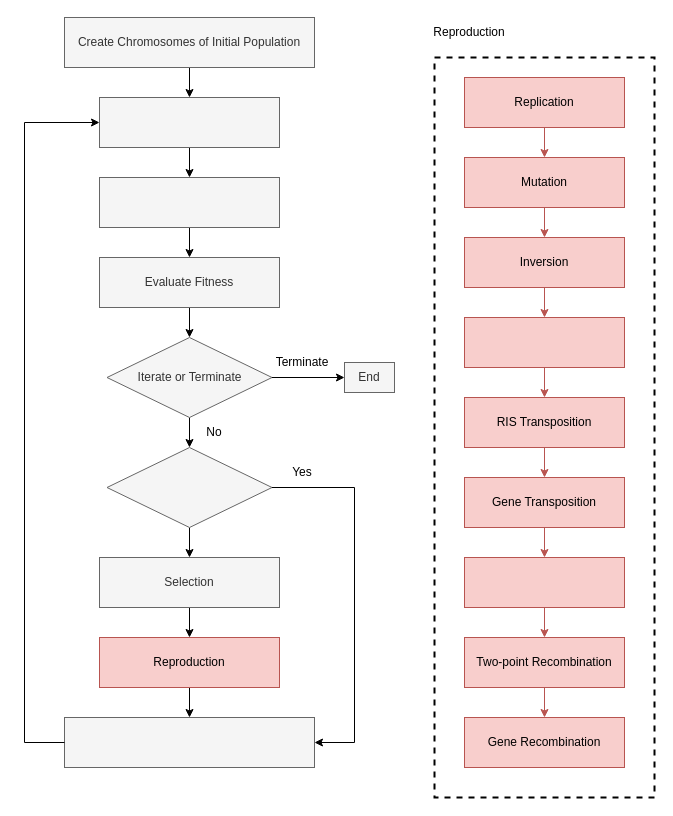
Some shapes in this 673 by 816 pixel diagram are drawn without their labels. Each missing label, with the box of its shape:
Best of Generations?: (106, 446, 272, 528)
Execute Each Program: (98, 176, 280, 228)
Express Chromosomes: (98, 96, 280, 148)
IS Transposition: (464, 316, 624, 368)
New Chromosomes of Next Generation: (64, 716, 314, 768)
One-point Recombination: (464, 556, 624, 608)
